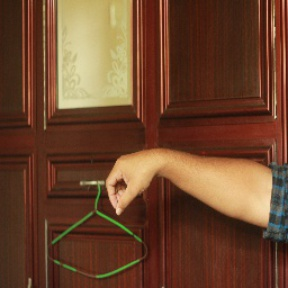O: (103, 147, 164, 217)
